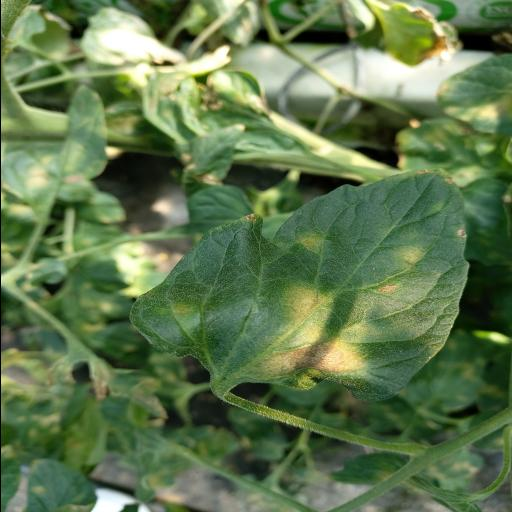Leaf Mold: (133, 168, 471, 403)
